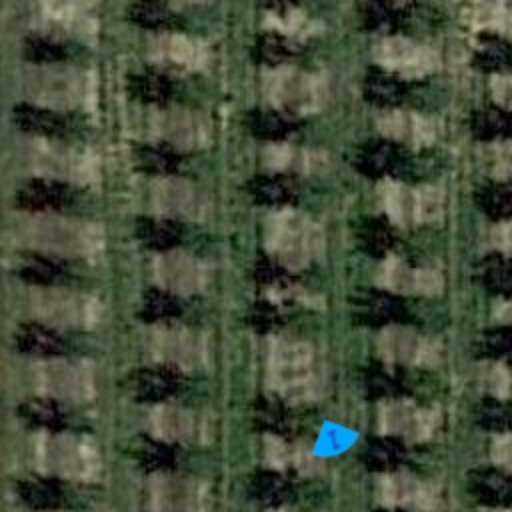quarter_circle: (300, 406, 368, 474)
